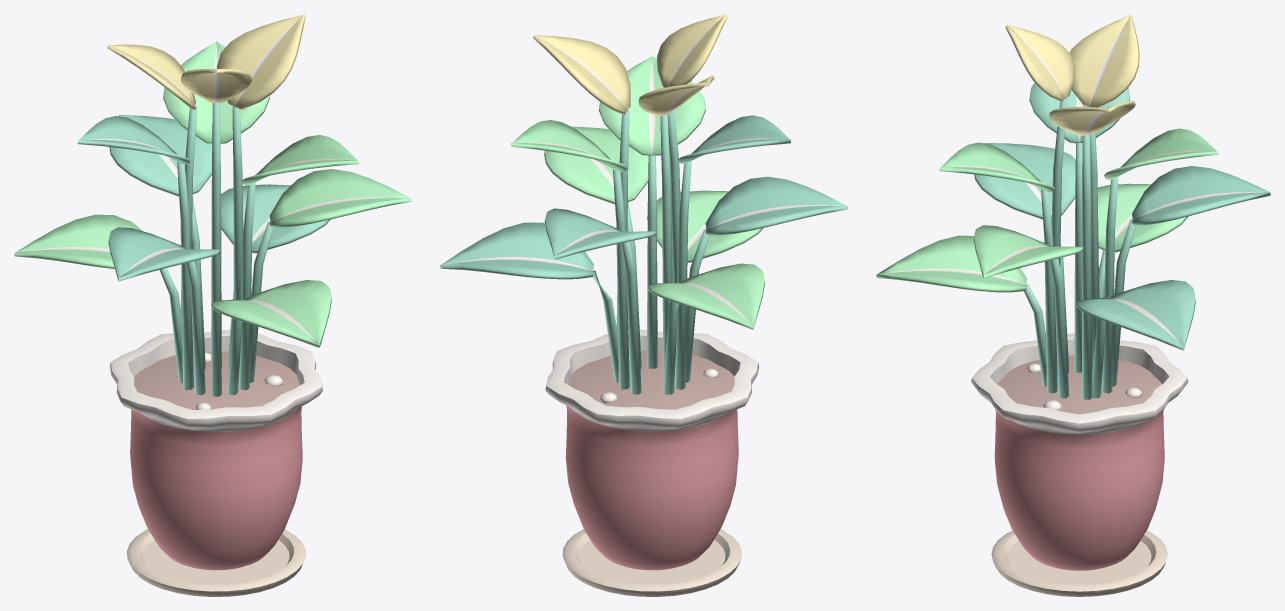
The model's file is planta-interior-retro.glb.
The picture shows the model from 3 angles, left to right: view 1: azimuth 30°, elevation 25°; view 2: azimuth 150°, elevation 25°; view 3: azimuth 270°, elevation 25°; orthographic projection.
Visible parts, largest first — view 1: folhas, vaso, terra; view 2: folhas, vaso, terra; view 3: folhas, vaso, terra.
Part boxes in pixels (box(x1,y1,x2,y2)): folhas: box(14, 14, 411, 396); vaso: box(109, 330, 322, 596); terra: box(134, 351, 299, 409); folhas: box(440, 14, 847, 394); vaso: box(545, 329, 759, 596); terra: box(569, 351, 734, 409); folhas: box(876, 14, 1270, 399); vaso: box(971, 333, 1188, 596); terra: box(997, 355, 1161, 414).
Size of the model in its own units: 0.7838 by 1.28 by 0.8762.
